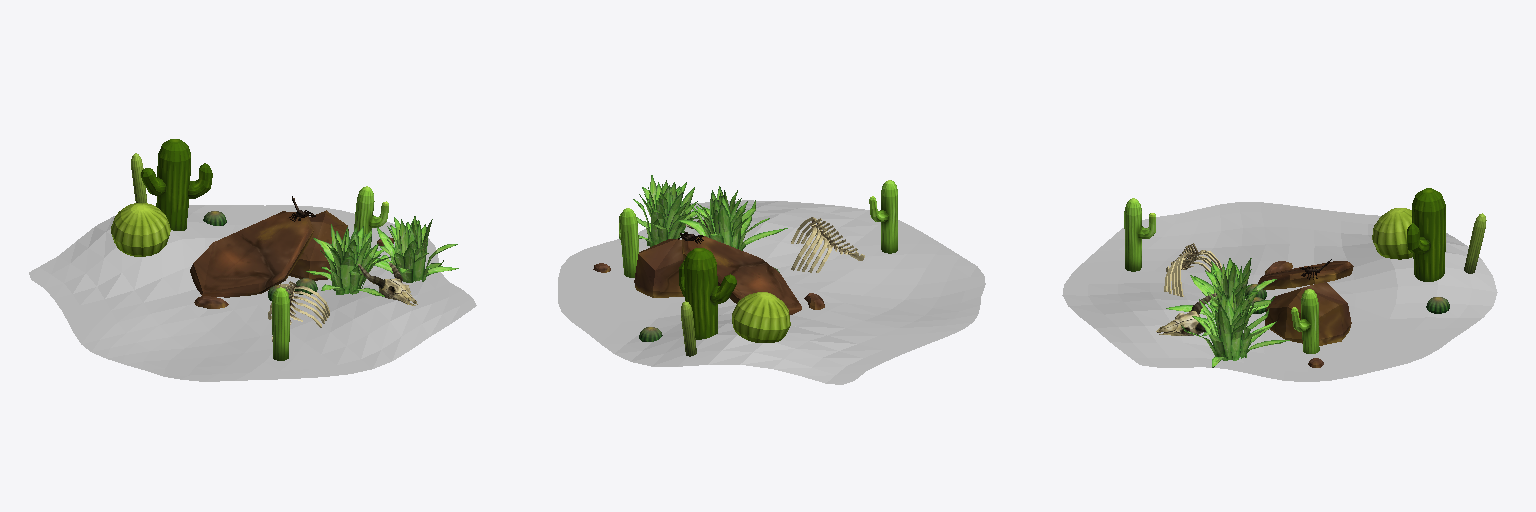
3 renders of one model, left to right at view 1: azimuth 30°, elevation 25°; view 2: azimuth 150°, elevation 25°; view 3: azimuth 270°, elevation 25°, orthographic.
Parts seen in each view (by area): view 1: Object_9, Object_11, Object_13, Object_5, Object_6, Object_16, Object_10, Object_2, Object_3, Object_14, Object_4; view 2: Object_9, Object_13, Object_11, Object_5, Object_16, Object_6, Object_10, Object_3, Object_4; view 3: Object_9, Object_13, Object_5, Object_10, Object_16, Object_6, Object_11, Object_3, Object_2, Object_4, Object_14.
Part boxes in pixels (bbox=[...]): Object_9: bbox=[29, 205, 476, 381]; Object_11: bbox=[190, 211, 313, 297]; Object_13: bbox=[306, 216, 458, 296]; Object_5: bbox=[141, 139, 212, 230]; Object_6: bbox=[111, 203, 170, 256]; Object_16: bbox=[272, 186, 388, 360]; Object_10: bbox=[289, 210, 348, 280]; Object_2: bbox=[358, 262, 417, 305]; Object_3: bbox=[268, 281, 329, 341]; Object_14: bbox=[203, 211, 317, 300]; Object_4: bbox=[131, 153, 146, 202]; Object_9: bbox=[558, 200, 985, 384]; Object_13: bbox=[619, 175, 787, 250]; Object_11: bbox=[682, 236, 801, 314]; Object_5: bbox=[679, 248, 736, 339]; Object_16: bbox=[619, 180, 897, 277]; Object_6: bbox=[732, 292, 790, 342]; Object_10: bbox=[634, 239, 683, 297]; Object_3: bbox=[791, 217, 864, 272]; Object_4: bbox=[681, 301, 696, 356]; Object_9: bbox=[1062, 202, 1497, 381]; Object_13: bbox=[1166, 258, 1289, 367]; Object_5: bbox=[1407, 188, 1445, 281]; Object_10: bbox=[1265, 282, 1351, 345]; Object_16: bbox=[1124, 198, 1319, 353]; Object_6: bbox=[1372, 208, 1412, 259]; Object_11: bbox=[1258, 261, 1353, 289]; Object_3: bbox=[1164, 243, 1221, 296]; Object_2: bbox=[1156, 293, 1216, 335]; Object_4: bbox=[1464, 213, 1486, 273]; Object_14: bbox=[1245, 284, 1449, 313].
Size of the model in its own units: 17.69 by 5.68 by 18.01.
14 materials, 12 textured.